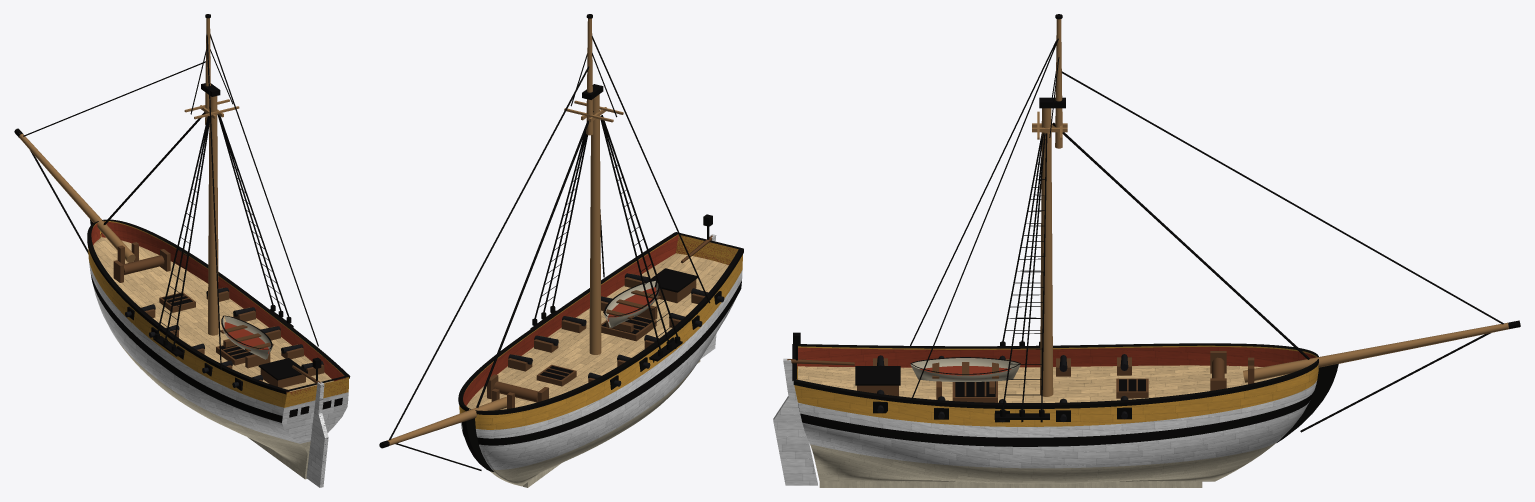
The model's file is sloop.glb.
The picture shows the model from 3 angles, left to right: view 1: azimuth 30°, elevation 25°; view 2: azimuth 150°, elevation 25°; view 3: azimuth 270°, elevation 25°; orthographic projection. The views are drawn at different scales.
Visible parts, largest first — view 1: hull; view 2: hull; view 3: hull.
Part boxes in pixels (x1,y1,x2,y2): hull: (14, 14, 350, 487); hull: (379, 14, 743, 487); hull: (773, 14, 1520, 487).
Size of the model in its own units: 5.14 by 16.03 by 23.05.
Materials: 9 (5 with a texture image).
